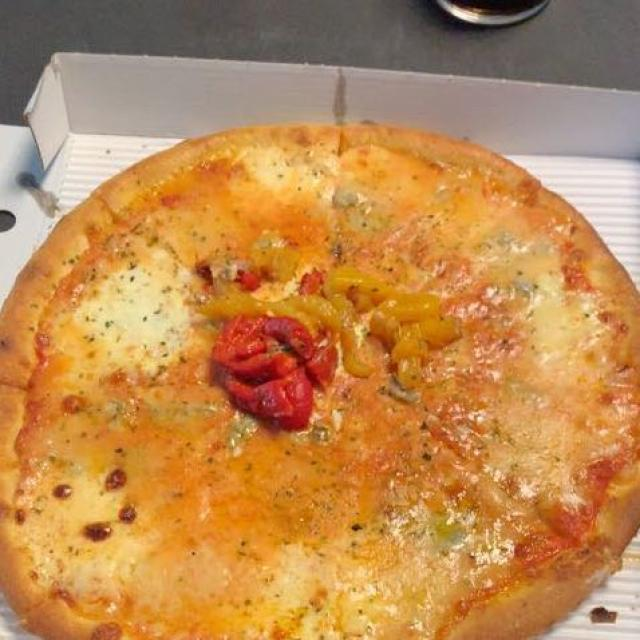bell-pepper-red-raw: (202, 270, 462, 430)
pizza-margherita-baked: (15, 130, 635, 627)
